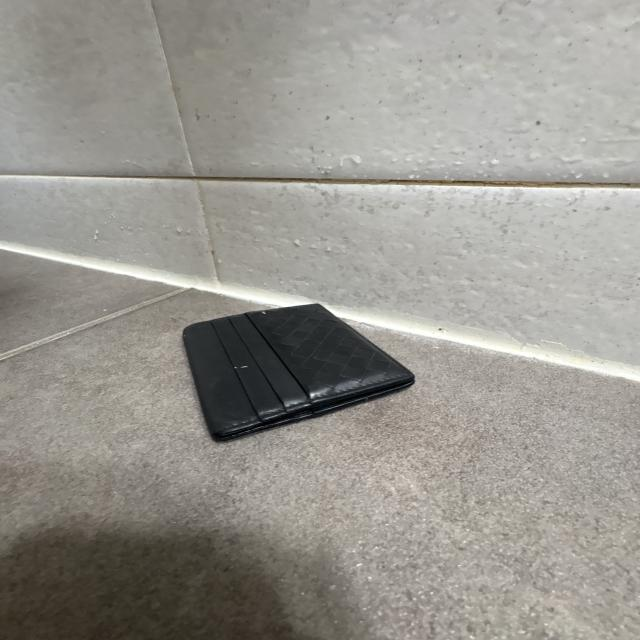wallet: (186, 302, 420, 444)
